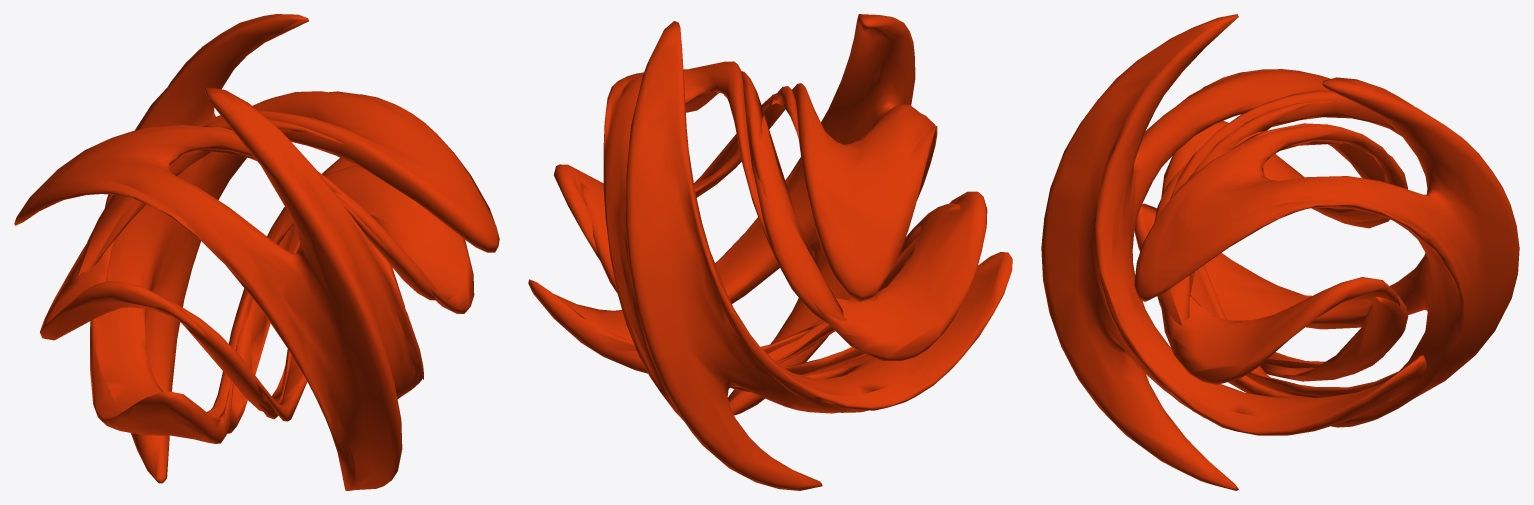
3 renders of one model, left to right at view 1: azimuth 30°, elevation 25°; view 2: azimuth 150°, elevation 25°; view 3: azimuth 270°, elevation 25°, orthographic. The views are drawn at different scales.
Visible parts, largest first — view 1: Torus; view 2: Torus; view 3: Torus.
Boxes of the visible parts, x1,y1,x2,y2 form: Torus: (14, 14, 499, 490); Torus: (528, 14, 1012, 490); Torus: (1041, 14, 1519, 490).
Size of what is drawn, in the model's own units: 2.51 by 2.58 by 2.73.
